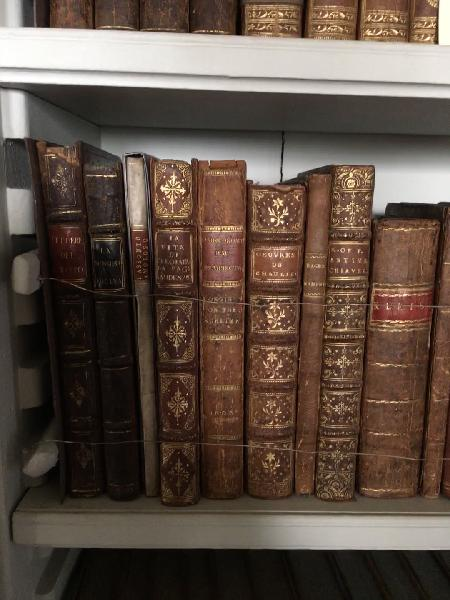Aa6-1: (27, 128, 106, 507)
Aa6-2: (76, 157, 149, 503)
Aa6-3: (116, 151, 171, 508)
Aa6-4: (149, 146, 209, 508)
Aa6-5: (189, 149, 252, 510)
Aa6-6: (244, 176, 307, 510)
Aa6-7: (292, 160, 334, 502)
Aa6-8: (312, 147, 377, 508)
Aa6-9: (356, 211, 439, 510)
